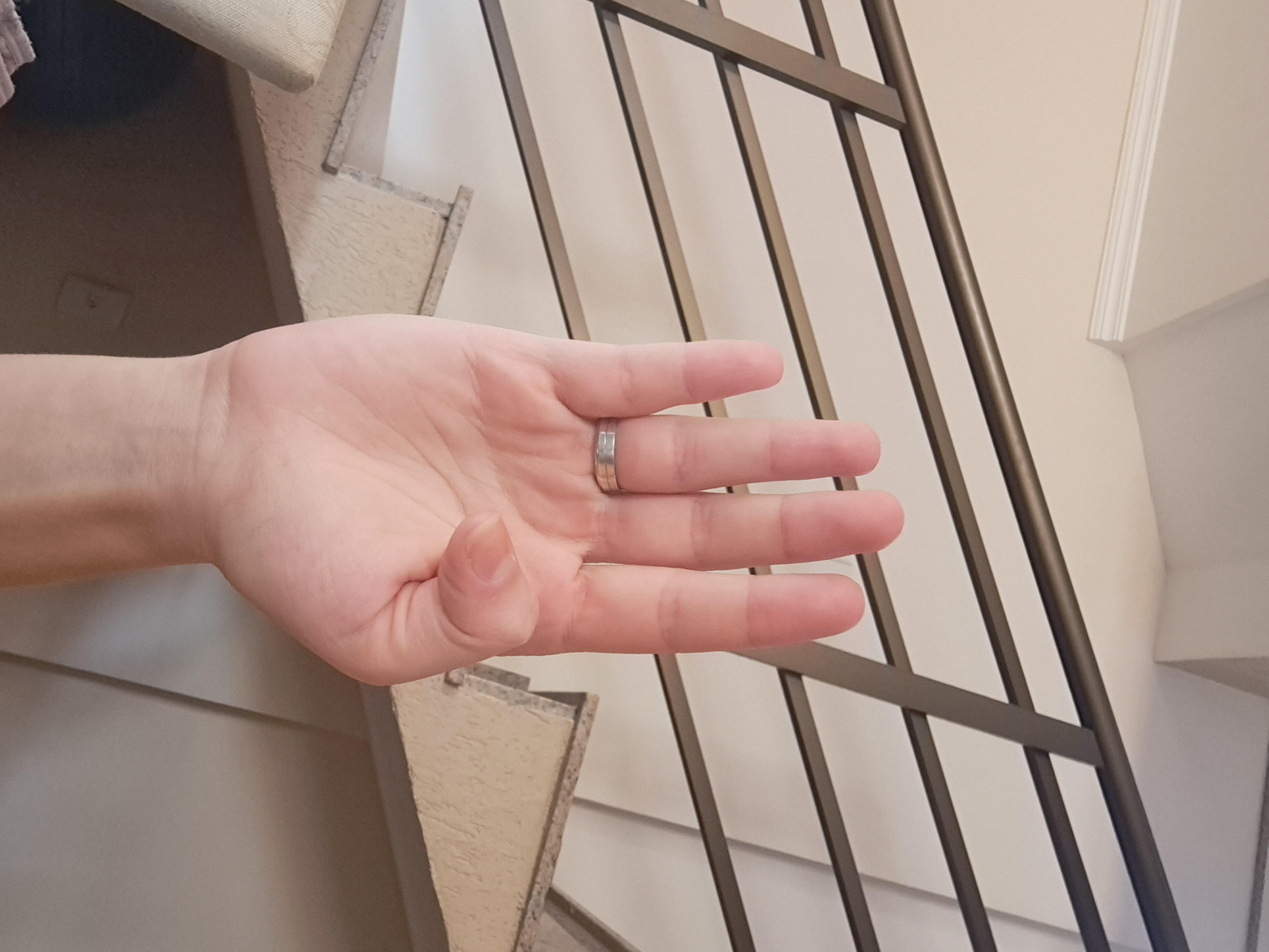B: (404, 268, 912, 785)
